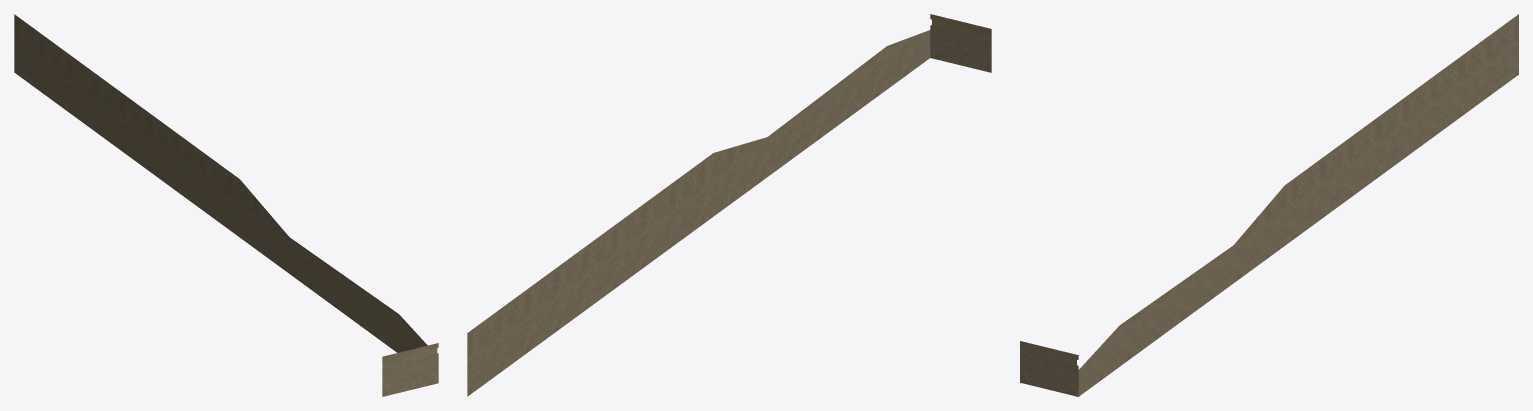
The model's file is Ground16_Terrain_LostTemple_001.FBX.
The picture shows the model from 3 angles, left to right: view 1: azimuth 30°, elevation 25°; view 2: azimuth 150°, elevation 25°; view 3: azimuth 330°, elevation 25°; orthographic projection. The views are drawn at different scales.
Visible parts, largest first — view 1: Ground16_Terrain_LostTemple_001; view 2: Ground16_Terrain_LostTemple_001; view 3: Ground16_Terrain_LostTemple_001.
Boxes of the visible parts, x1,y1,x2,y2 form: Ground16_Terrain_LostTemple_001: (14,14,438,396); Ground16_Terrain_LostTemple_001: (467,14,991,396); Ground16_Terrain_LostTemple_001: (1020,14,1518,396).
Bounding box in the file's own units: 327 × 324 × 4269.
1 material, 1 textured.
